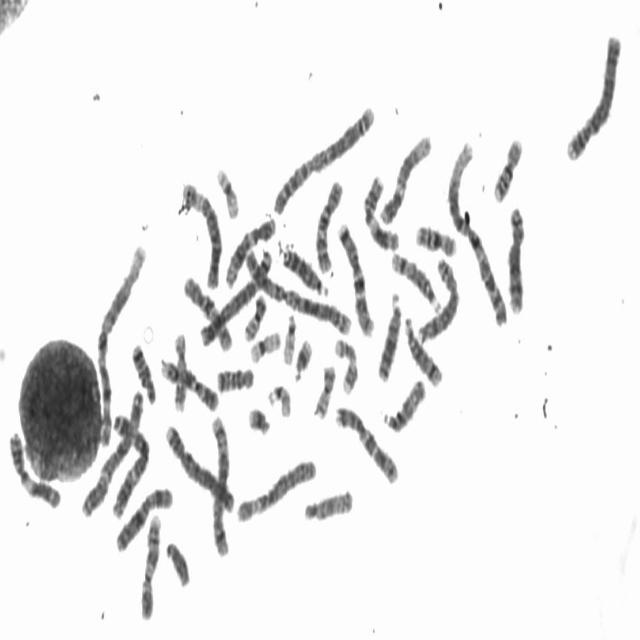A1: (445, 135, 510, 328), (92, 236, 149, 448)
A2: (270, 99, 378, 216), (241, 244, 352, 338)
A3: (79, 382, 147, 519), (108, 402, 152, 520)
B4: (564, 28, 624, 164), (163, 418, 238, 514)
B5: (197, 244, 274, 348), (208, 409, 232, 558)
C10: (181, 270, 233, 354), (312, 173, 345, 275)
C11: (5, 425, 64, 512), (361, 167, 402, 253)
C12: (378, 126, 434, 226), (222, 209, 278, 290)
C6: (233, 452, 318, 525), (178, 176, 224, 292)
C7: (332, 400, 401, 486), (335, 217, 376, 338)
C8: (415, 252, 460, 344), (505, 200, 528, 317)
C9: (157, 352, 221, 412), (138, 508, 163, 622)
D13: (279, 240, 330, 298), (374, 286, 404, 384)
D14: (388, 244, 442, 314), (402, 311, 444, 388)
D15: (380, 372, 428, 435), (301, 483, 355, 524)
E16: (490, 131, 525, 205), (413, 218, 459, 258)
E17: (331, 332, 360, 397), (170, 326, 188, 414)
E18: (129, 337, 158, 407), (213, 361, 256, 394)
F19: (213, 161, 241, 220), (247, 325, 283, 365)
F20: (311, 359, 338, 421), (242, 288, 268, 342)
G21: (291, 331, 314, 383), (245, 401, 272, 437)
G22: (265, 378, 293, 420), (280, 307, 298, 367)
X: (114, 482, 175, 554)
Y: (163, 535, 192, 590)
